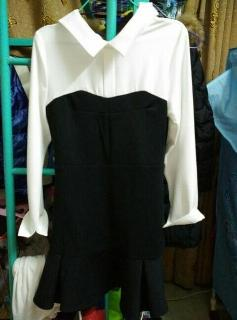long sleeve dress: (18, 2, 206, 319)
